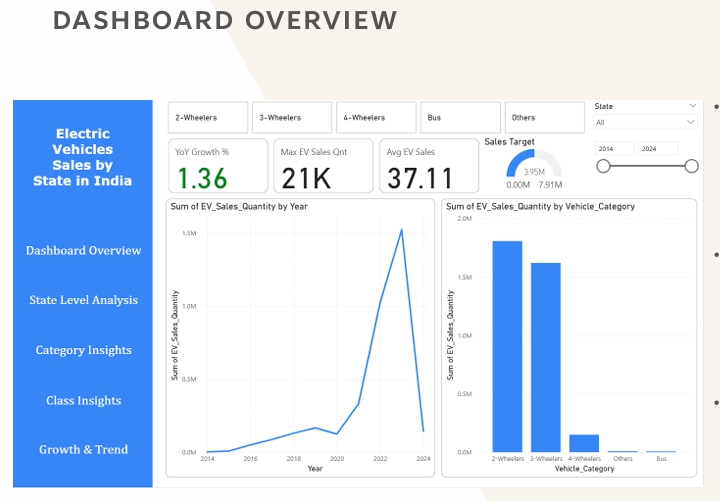

This screenshot's page, from the dashboard's own definition file:
{"tool":"powerbi","page":{"name":"Dashboard Overview","canvas":[1280,720],"ordinal":0},"visuals":[{"type":"cardVisual","fields":{"Data":["Electric Vehicle Sales by State in India (2).Max EV Sales Qnt"]},"box":[479.5,68.1,195.5,111.9],"z":0},{"type":"cardVisual","fields":{"Data":["Electric Vehicle Sales by State in India (2).Avg EV Sales"]},"box":[675,68.1,195.5,111.9],"z":1000},{"type":"slicer","fields":{"Values":["Electric Vehicle Sales by State in India (2).State"]},"box":[1066,0,214,68.1],"z":2000},{"type":"advancedSlicerVisual","fields":{"Values":["Electric Vehicle Sales by State in India (2).Vehicle_Category"]},"box":[284,0,782,68.1],"z":3000},{"type":"slicer","fields":{"Values":["Electric Vehicle Sales by State in India (2).Year"]},"box":[1066.8,68.5,213.4,102.7],"z":4000},{"type":"cardVisual","fields":{"Data":["Electric Vehicle Sales by State in India (2).YoY Growth percentage"]},"box":[284,68.1,195.5,111.9],"z":5000},{"type":"lineChart","fields":{"Category":["Electric Vehicle Sales by State in India (2).Date.Variation.Date Hierarchy.Year"],"Y":["Sum(Electric Vehicle Sales by State in India (2).EV_Sales_Quantity)"]},"box":[283.6,184.5,500,517.3],"z":6000},{"type":"clusteredColumnChart","fields":{"Y":["Sum(Electric Vehicle Sales by State in India (2).EV_Sales_Quantity)"],"Category":["Electric Vehicle Sales by State in India (2).Vehicle_Category"]},"box":[794.5,184.5,474.5,517.3],"z":7000},{"type":"gauge","fields":{"Y":["Electric Vehicle Sales by State in India (2).Sales Target"]},"box":[869.9,68.3,195.1,111.7],"z":8000},{"type":"textbox","box":[31.8,43.6,196.4,127.3],"z":9000},{"type":"actionButton","box":[11.8,259.1,240,40],"z":10000},{"type":"actionButton","box":[11.8,350.9,240,40],"z":11000},{"type":"actionButton","box":[11.8,443.6,240,40],"z":12000},{"type":"actionButton","box":[11.8,537.3,240,40],"z":13000},{"type":"actionButton","box":[11.8,628.2,240,40],"z":15000}]}

Visuals, with their boxes on the page's 1280x720 design canvas (x1, y1, x2, y2). These are canvas units, not pixel positions in the 720x501 screenshot, which may show the page scaled, cropped or inside an application window:
cardVisual - Electric Vehicle Sales by State in India (2).Max EV Sales Qnt: x1=480 y1=68 x2=675 y2=180
cardVisual - Electric Vehicle Sales by State in India (2).Avg EV Sales: x1=675 y1=68 x2=870 y2=180
slicer - Electric Vehicle Sales by State in India (2).State: x1=1066 y1=0 x2=1280 y2=68
advancedSlicerVisual - Electric Vehicle Sales by State in India (2).Vehicle_Category: x1=284 y1=0 x2=1066 y2=68
slicer - Electric Vehicle Sales by State in India (2).Year: x1=1067 y1=68 x2=1280 y2=171
cardVisual - Electric Vehicle Sales by State in India (2).YoY Growth percentage: x1=284 y1=68 x2=480 y2=180
lineChart - Electric Vehicle Sales by State in India (2).Date.Variation.Date Hierarchy.Year x Sum(Electric Vehicle Sales by State in India (2).EV_Sales_Quantity): x1=284 y1=184 x2=784 y2=702
clusteredColumnChart - Sum(Electric Vehicle Sales by State in India (2).EV_Sales_Quantity) x Electric Vehicle Sales by State in India (2).Vehicle_Category: x1=794 y1=184 x2=1269 y2=702
gauge - Electric Vehicle Sales by State in India (2).Sales Target: x1=870 y1=68 x2=1065 y2=180
textbox: x1=32 y1=44 x2=228 y2=171
actionButton: x1=12 y1=259 x2=252 y2=299
actionButton: x1=12 y1=351 x2=252 y2=391
actionButton: x1=12 y1=444 x2=252 y2=484
actionButton: x1=12 y1=537 x2=252 y2=577
actionButton: x1=12 y1=628 x2=252 y2=668
